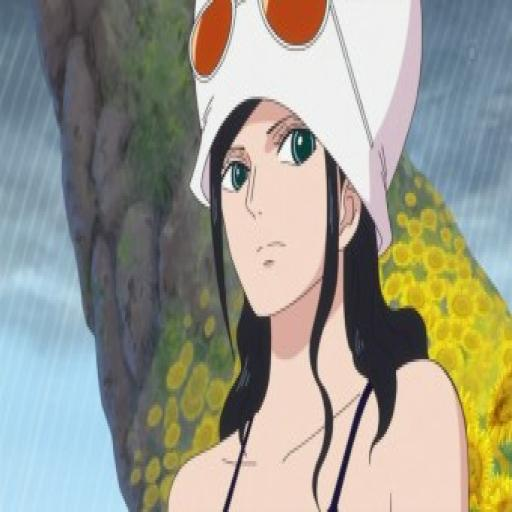NicoRobin: (176, 0, 401, 326)
